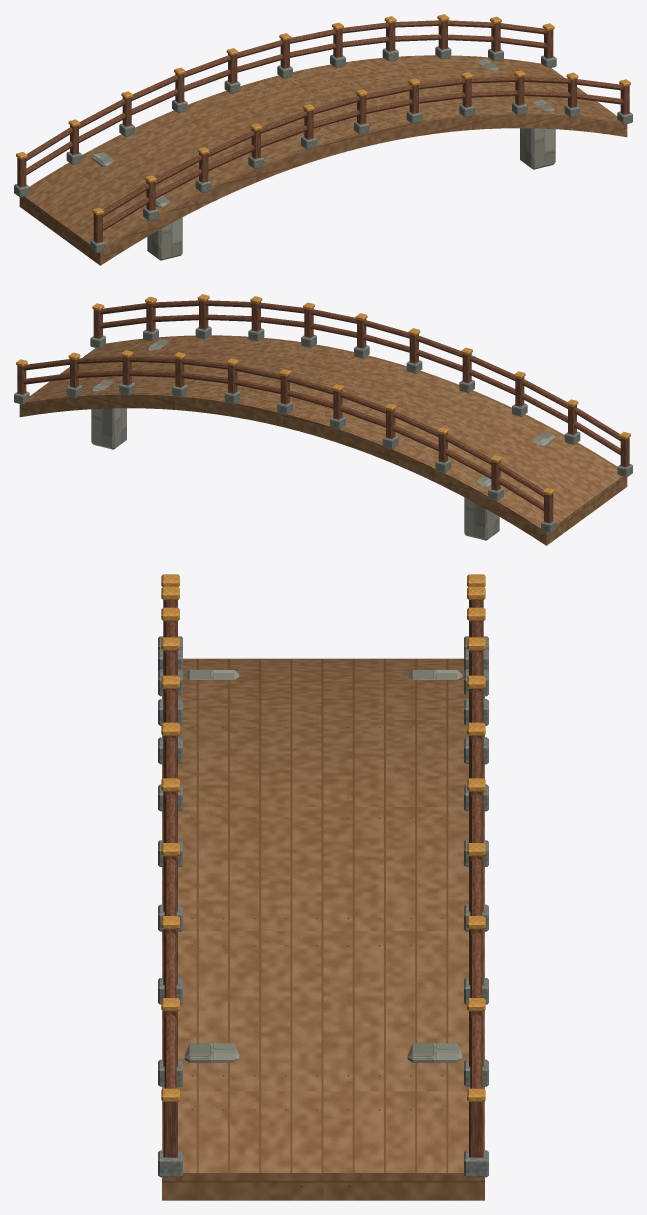
File: arched_bridge.gltf
3 views of the same model, one above another, from view 1: azimuth 30°, elevation 25°; view 2: azimuth 150°, elevation 25°; view 3: azimuth 270°, elevation 25° (orthographic). The views are drawn at different scales.
Visible parts, largest first — view 1: arched_bridge; view 2: arched_bridge; view 3: arched_bridge.
Part boxes in pixels (box(x1,y1,x2,y2)): arched_bridge: box(14, 14, 632, 265); arched_bridge: box(14, 294, 632, 545); arched_bridge: box(158, 574, 488, 1200).
Size of the model in its own units: 15.91 by 3.54 by 4.24.
Materials: 5 (5 with a texture image).
